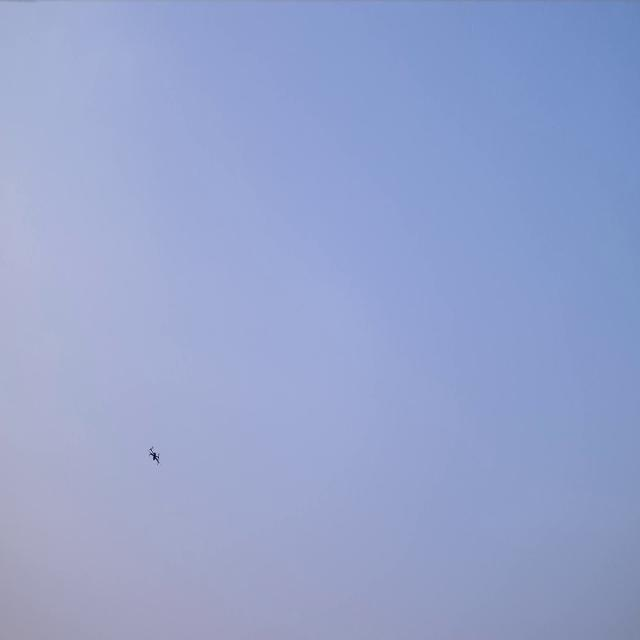UAV: (147, 444, 162, 467)
